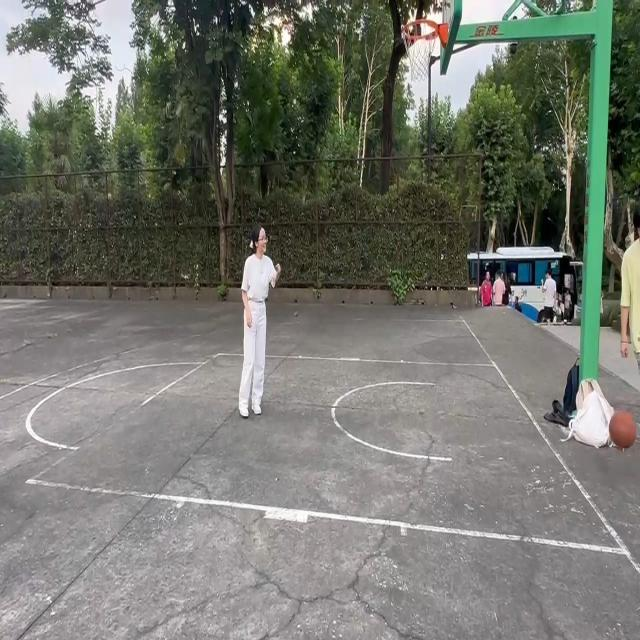basketball: (398, 18, 452, 114)
rim: (609, 408, 639, 450)
